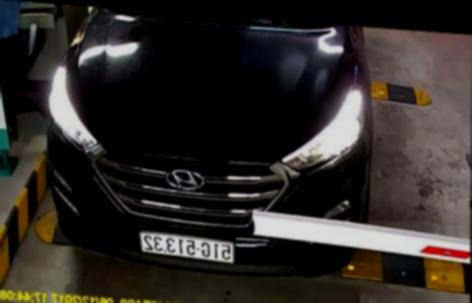License_Plate: (136, 227, 238, 267)
